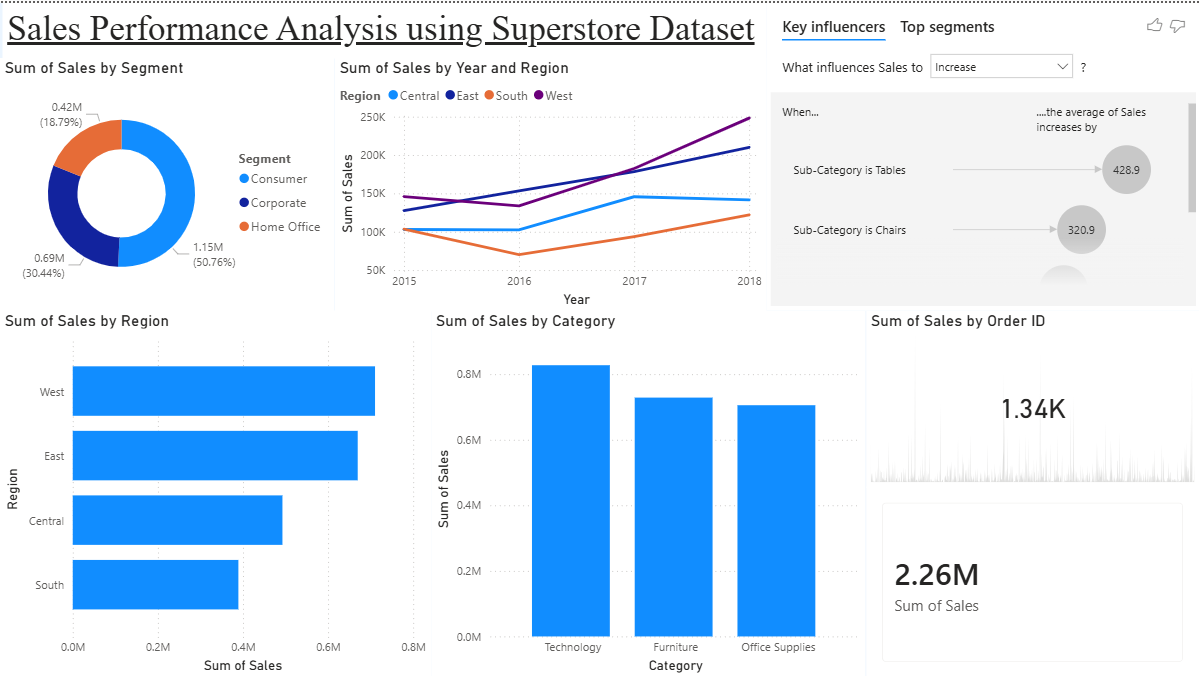

The page's visual inventory and layout, read from the dashboard file:
{"tool":"powerbi","page":{"name":"Page 1","canvas":[1280,720],"ordinal":0},"visuals":[{"type":"clusteredBarChart","fields":{"Category":["train.Region"],"Y":["Sum(train.Sales)"]},"box":[0,328.3,460,391.7],"z":1000},{"type":"clusteredColumnChart","fields":{"Category":["train.Category"],"Y":["Sum(train.Sales)"]},"box":[460,328.3,463.3,391.7],"z":2000},{"type":"lineChart","fields":{"Category":["train.Order Date.Variation.Date Hierarchy.Year","train.Order Date.Variation.Date Hierarchy.Quarter","train.Order Date.Variation.Date Hierarchy.Month","train.Order Date.Variation.Date Hierarchy.Day"],"Y":["Sum(train.Sales)"],"Series":["train.Region"]},"box":[356.7,58.9,460,270],"z":3000},{"type":"donutChart","fields":{"Category":["train.Segment"],"Y":["Sum(train.Sales)"]},"box":[0,58.3,356.7,270],"z":4000},{"type":"textbox","box":[2.2,0,814.4,58.9],"z":5000},{"type":"cardVisual","fields":{"Data":["Sum(train.Sales)"]},"box":[924.6,515.9,355.1,204.3],"z":6000},{"type":"kpi","fields":{"Indicator":["Sum(train.Sales)"],"TrendLine":["train.Order ID"]},"box":[924.6,327.5,355.1,188.4],"z":7000},{"type":"keyDriversVisual","fields":{"Target":["train.Sales"],"ExplainBy":["train.Region","train.Sub-Category"]},"box":[816.7,0,463.3,328.3],"z":8000}]}

Visuals, with their boxes in screenshot pixels (x1, y1, x2, y2), scaled from the page's 1280x720 canvas onto the 1199x676 screenshot:
clusteredBarChart - train.Region x Sum(train.Sales): 0,308,431,675
clusteredColumnChart - train.Category x Sum(train.Sales): 431,308,865,675
lineChart - train.Order Date.Variation.Date Hierarchy.Year x train.Order Date.Variation.Date Hierarchy.Quarter: 334,55,765,309
donutChart - train.Segment x Sum(train.Sales): 0,55,334,308
textbox: 2,0,765,55
cardVisual - Sum(train.Sales): 866,484,1198,675
kpi - Sum(train.Sales) x train.Order ID: 866,307,1198,484
keyDriversVisual - train.Sales x train.Region: 765,0,1198,308
